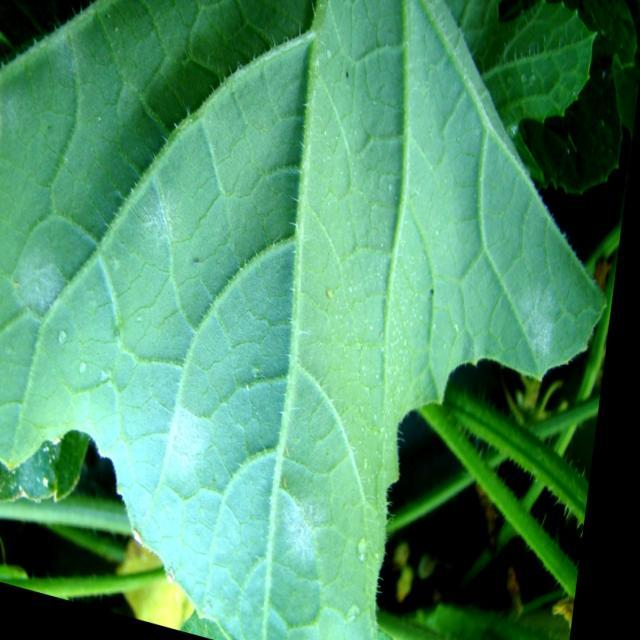Leaf_Mold: (145, 370, 345, 586), (3, 6, 142, 166), (2, 216, 90, 364), (489, 233, 582, 362), (116, 134, 196, 272)
